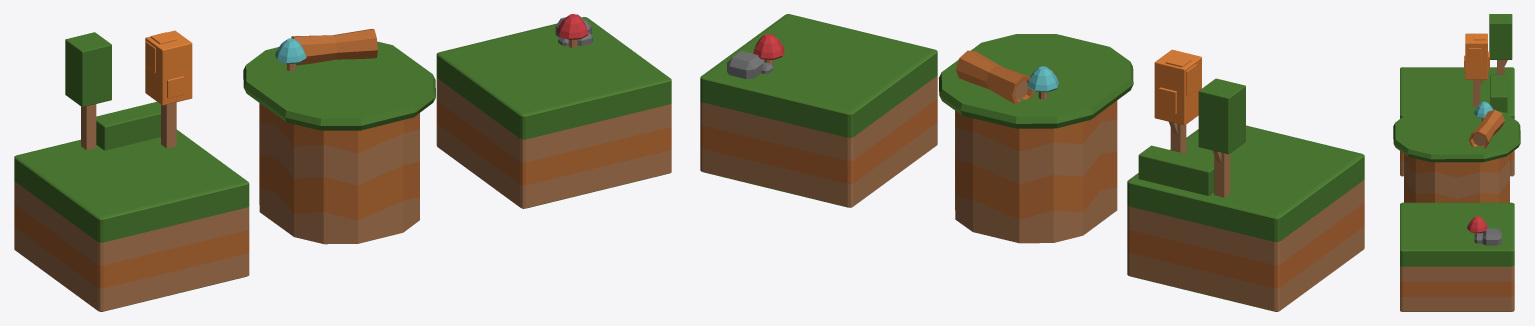
The model's file is Obtaculo_trespaneles.fbx.
3 views of the same model, side by side, from view 1: azimuth 30°, elevation 25°; view 2: azimuth 150°, elevation 25°; view 3: azimuth 270°, elevation 25° (orthographic). The views are drawn at different scales.
Parts seen in each view (by area): view 1: Bundle_Rocks5; view 2: Bundle_Rocks5; view 3: Bundle_Rocks5.
Boxes of the visible parts, bbox=[...] form: Bundle_Rocks5: bbox=[14, 14, 671, 311]; Bundle_Rocks5: bbox=[700, 14, 1364, 311]; Bundle_Rocks5: bbox=[1393, 14, 1520, 311].
Bounding box in the file's own units: 759 × 254 × 222.
